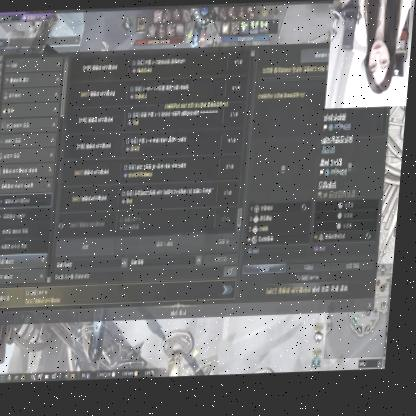streamer: (350, 0, 415, 97)
